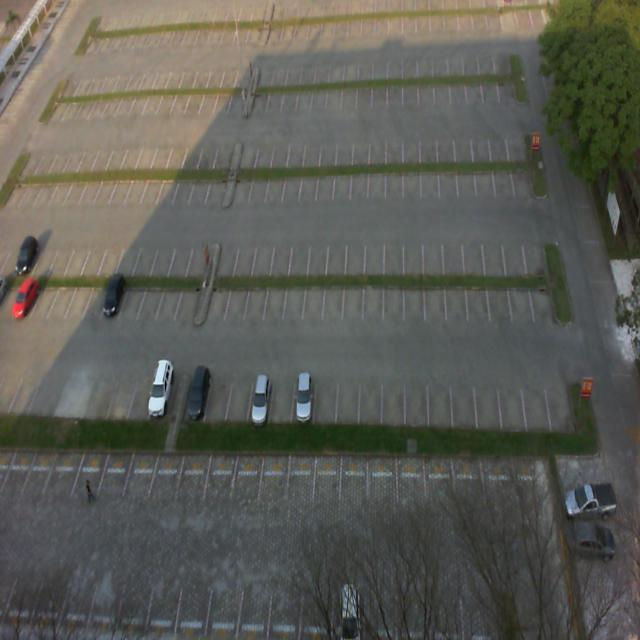space-empty: (94, 445, 132, 502), (123, 442, 158, 502), (71, 446, 106, 501), (148, 444, 182, 500), (43, 445, 78, 499), (231, 451, 264, 504), (545, 370, 576, 426), (499, 373, 528, 432), (204, 448, 238, 498), (175, 445, 208, 496), (312, 451, 342, 507), (223, 370, 254, 424), (21, 446, 55, 494), (259, 448, 290, 500), (523, 371, 550, 428), (64, 367, 93, 420), (476, 372, 502, 429), (117, 271, 146, 322), (222, 272, 249, 326), (83, 371, 112, 421), (288, 449, 314, 504), (106, 371, 134, 422), (452, 374, 479, 426), (136, 267, 162, 320), (428, 375, 454, 428), (127, 370, 154, 420), (312, 372, 336, 428), (268, 373, 294, 424), (154, 274, 180, 324), (203, 370, 229, 420), (262, 270, 286, 324), (530, 270, 557, 318), (359, 371, 382, 426), (174, 272, 198, 324), (382, 371, 405, 424), (241, 275, 265, 325), (335, 373, 359, 423), (405, 374, 428, 426), (486, 273, 511, 320), (483, 227, 507, 275), (443, 226, 466, 273), (205, 273, 225, 327), (130, 236, 156, 276), (113, 238, 140, 276), (509, 276, 532, 320), (303, 276, 324, 324), (155, 165, 178, 208), (525, 229, 548, 272), (444, 277, 467, 320), (467, 275, 488, 322), (148, 237, 172, 278), (188, 164, 211, 206), (363, 276, 384, 322), (282, 276, 302, 324), (167, 238, 192, 276), (505, 227, 526, 272), (322, 277, 343, 322), (425, 229, 445, 276), (188, 239, 212, 278), (139, 165, 162, 205), (511, 156, 534, 196), (287, 234, 310, 274), (404, 226, 424, 272), (404, 274, 424, 320), (426, 276, 446, 322), (172, 165, 193, 208), (382, 231, 404, 272), (229, 238, 252, 277), (204, 166, 226, 206), (464, 228, 484, 272), (231, 164, 252, 205), (213, 239, 236, 276), (384, 276, 402, 322), (307, 234, 328, 273), (345, 231, 364, 274), (268, 236, 290, 272), (251, 235, 272, 272), (345, 275, 362, 320), (324, 235, 344, 273), (364, 235, 383, 273), (458, 162, 478, 198), (478, 158, 496, 198), (299, 166, 317, 205), (494, 160, 514, 195), (267, 166, 284, 207), (283, 164, 300, 205), (250, 166, 268, 204), (368, 162, 386, 200), (422, 163, 440, 198), (333, 165, 350, 202), (388, 162, 404, 200), (403, 163, 420, 198), (440, 162, 458, 195), (316, 166, 332, 200), (351, 164, 367, 198)
space-occupied: (246, 372, 272, 422), (148, 374, 175, 422), (101, 270, 125, 320), (290, 372, 313, 424), (181, 373, 206, 418)
